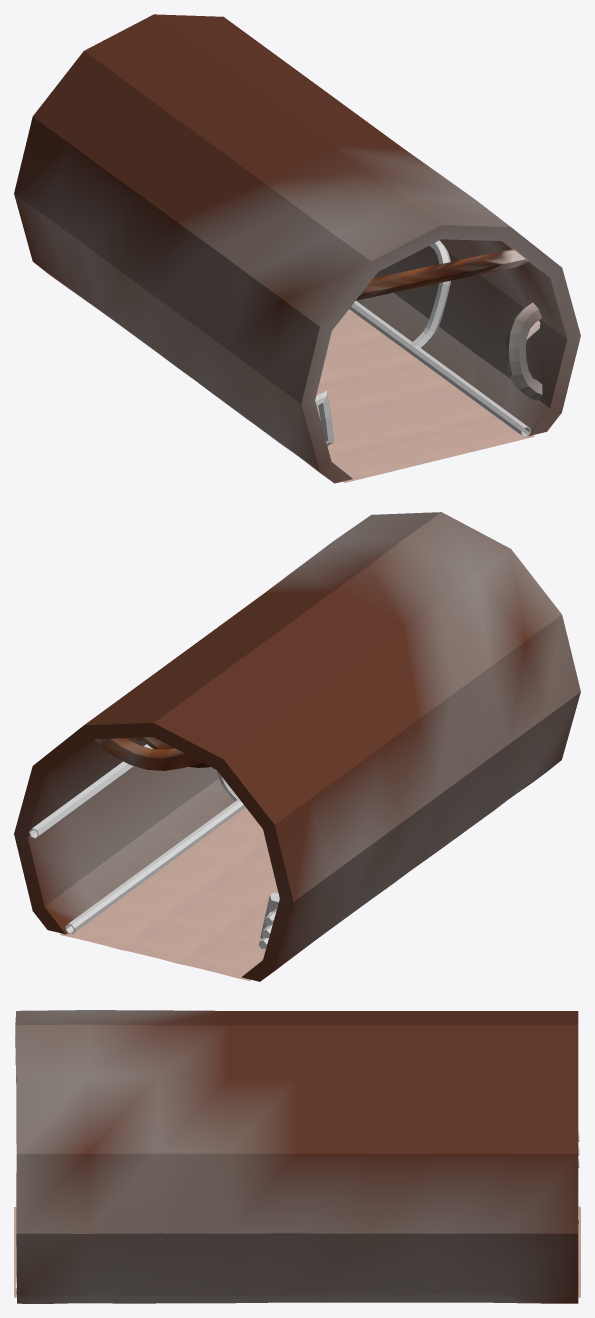
File: Tunnel(1).fbx
The picture shows the model from 3 angles, top to bottom: view 1: azimuth 30°, elevation 25°; view 2: azimuth 150°, elevation 25°; view 3: azimuth 270°, elevation 25°; orthographic projection. The views are drawn at different scales.
Visible parts, largest first — view 1: Cylindre 1, Tube (×2), Tube 12, Tube 6; view 2: Cylindre 1, Tube (×2), Tube 3; view 3: Cylindre 1.
Boxes of the visible parts, x1,y1,x2,y2 form: Cylindre 1: (14,14,580,483); Tube (×2): (349,240,530,437); Tube 12: (356,249,528,300); Tube 6: (505,302,542,400); Cylindre 1: (14,512,580,981); Tube (×2): (29,744,245,933); Tube 3: (95,738,201,770); Cylindre 1: (14,1010,580,1303).
Bounding box in the file's own units: 4.55 × 3.65 × 8.18.
